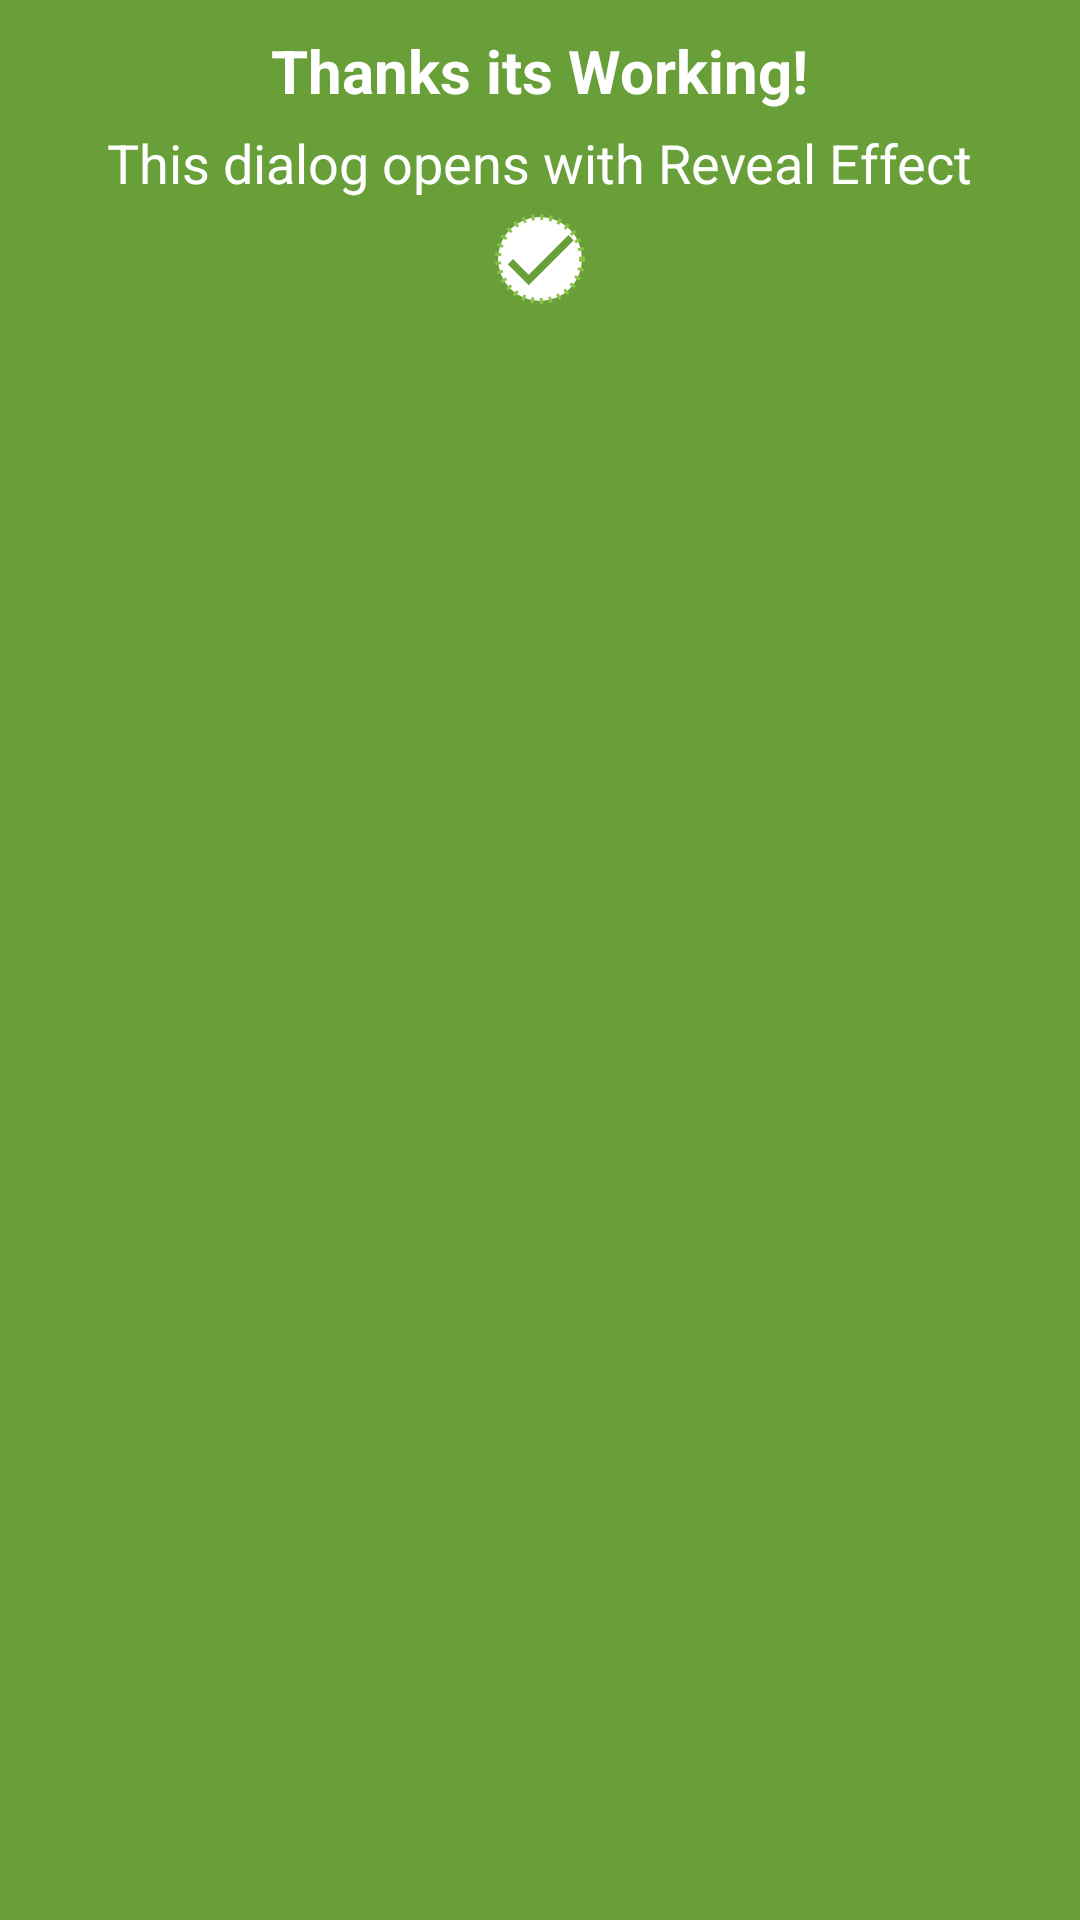

Screen size 1080x1920. Icon name, then its center in pixels as (x=x, y=y):
done: (x=540, y=259)
